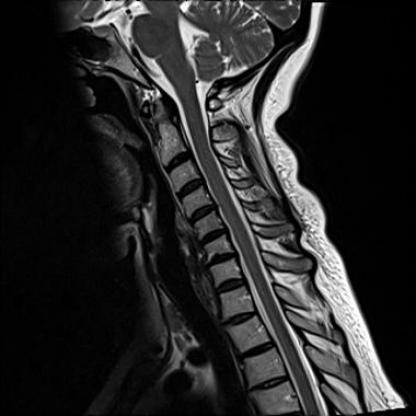Disc Bulgerotation: (187, 205, 217, 221), (199, 229, 229, 244), (207, 252, 236, 265)
